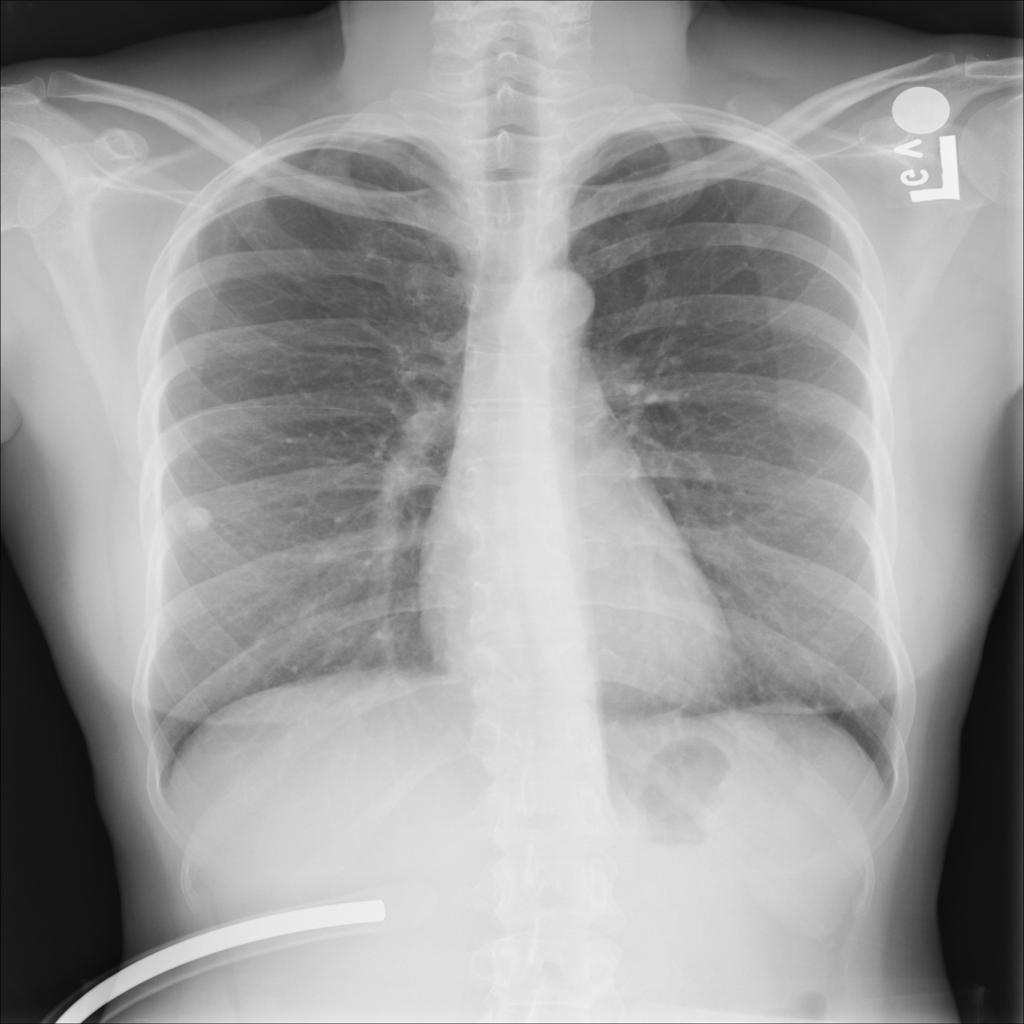nodule: (169, 491, 227, 538)
